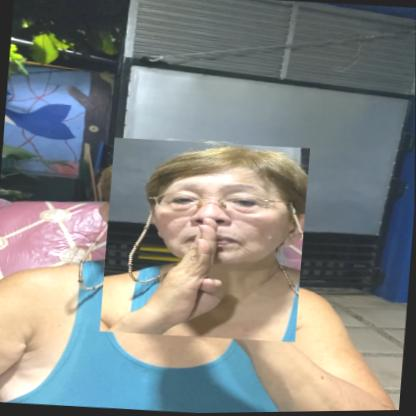Talk: (100, 136, 310, 345)
